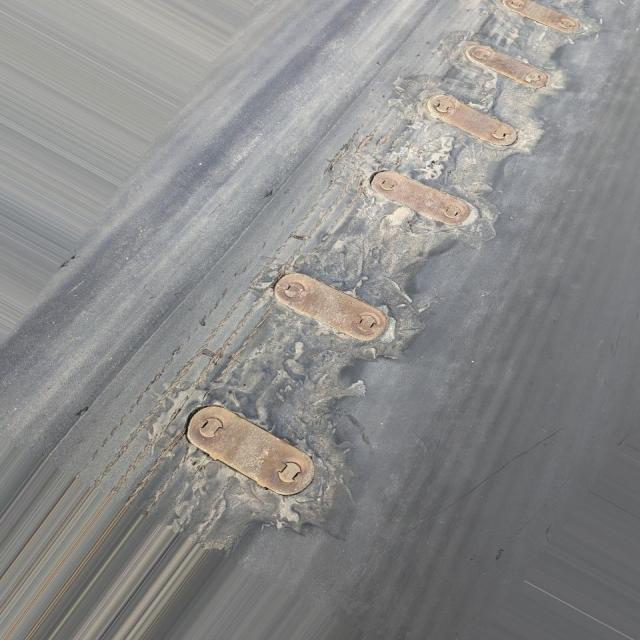patch work: (139, 0, 600, 548)
